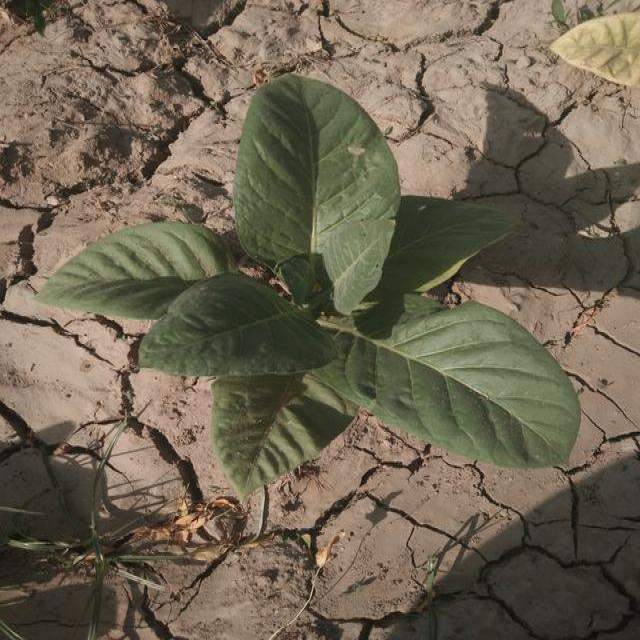crop: (41, 74, 592, 491)
